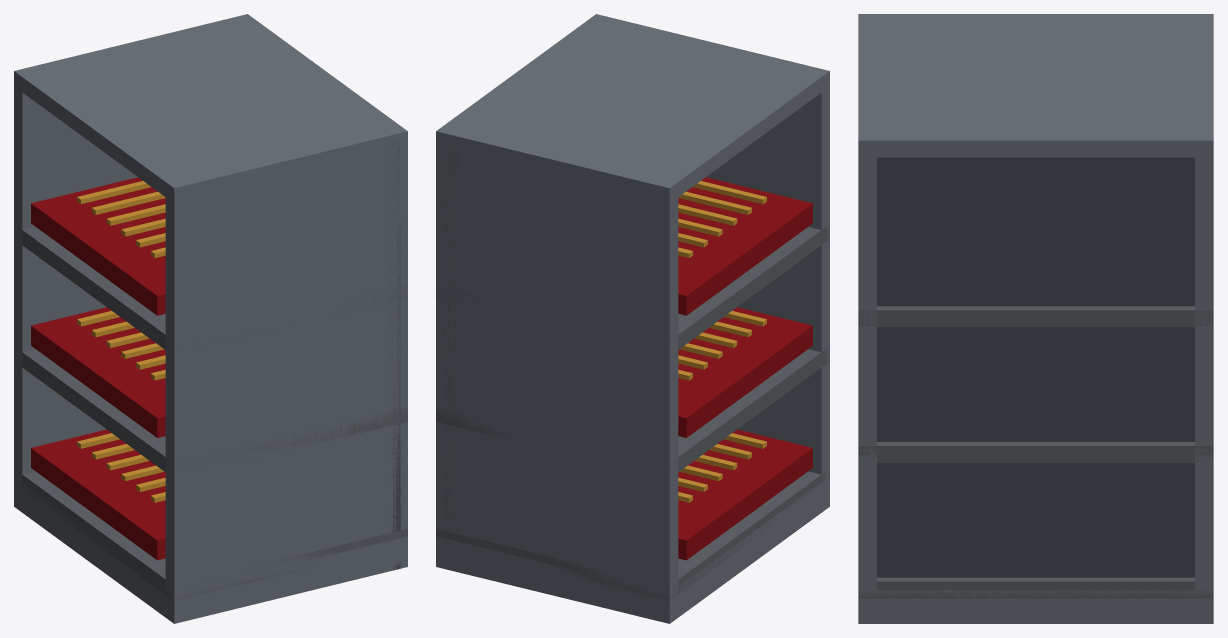
Rendered from L32_HDMI_USB_A.fbx.
The picture shows the model from 3 angles, left to right: view 1: azimuth 30°, elevation 25°; view 2: azimuth 150°, elevation 25°; view 3: azimuth 270°, elevation 25°; orthographic projection. The views are drawn at different scales.
Visible parts, largest first — view 1: HDMI_USB_A_Steel, HDMI_USB_A_Red, HDMI_USB_A_Silver, HDMI_USB_A_Gold, HDMI_USB_A_Gray; view 2: HDMI_USB_A_Steel, HDMI_USB_A_Red, HDMI_USB_A_Silver, HDMI_USB_A_Gold; view 3: HDMI_USB_A_Gray, HDMI_USB_A_Steel, HDMI_USB_A_Silver.
Boxes of the visible parts, bbox=[...] form: HDMI_USB_A_Steel: bbox=[14, 14, 407, 623]; HDMI_USB_A_Red: bbox=[31, 177, 165, 560]; HDMI_USB_A_Silver: bbox=[14, 227, 407, 600]; HDMI_USB_A_Gold: bbox=[77, 181, 165, 502]; HDMI_USB_A_Gray: bbox=[386, 141, 400, 569]; HDMI_USB_A_Steel: bbox=[436, 14, 829, 623]; HDMI_USB_A_Red: bbox=[678, 177, 812, 560]; HDMI_USB_A_Silver: bbox=[436, 226, 829, 600]; HDMI_USB_A_Gold: bbox=[678, 181, 766, 502]; HDMI_USB_A_Gray: bbox=[877, 157, 1194, 577]; HDMI_USB_A_Steel: bbox=[858, 14, 1213, 623]; HDMI_USB_A_Silver: bbox=[858, 306, 1213, 598].
Bounding box in the file's own units: 1.6 × 2.85 × 1.9.
